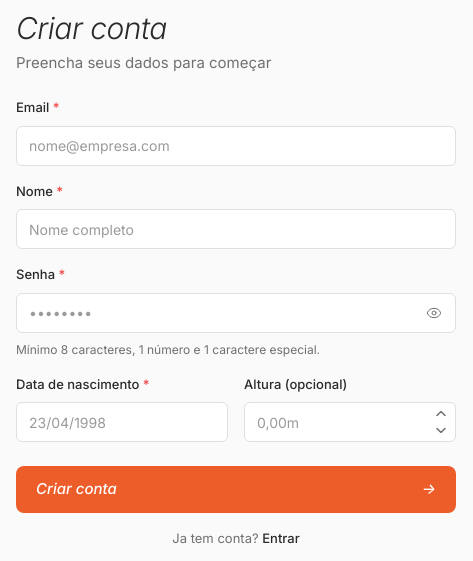
it: RegisterPage › formats birth date visually as dd/mm/aaaa while typing
The image size is (473, 561).
Step 1. Type "23041998" into the field labelled "Data de nascimento" → (122, 422), box x1=16 y1=402 x2=228 y2=442
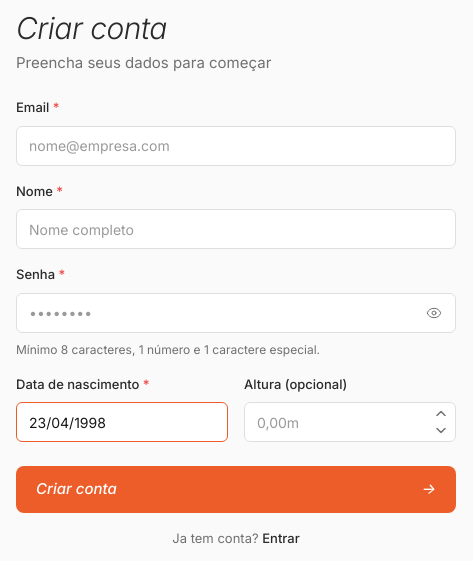
Check: the field labelled "Data de nascimento" holds "23/04/1998", box x1=16 y1=402 x2=228 y2=442
